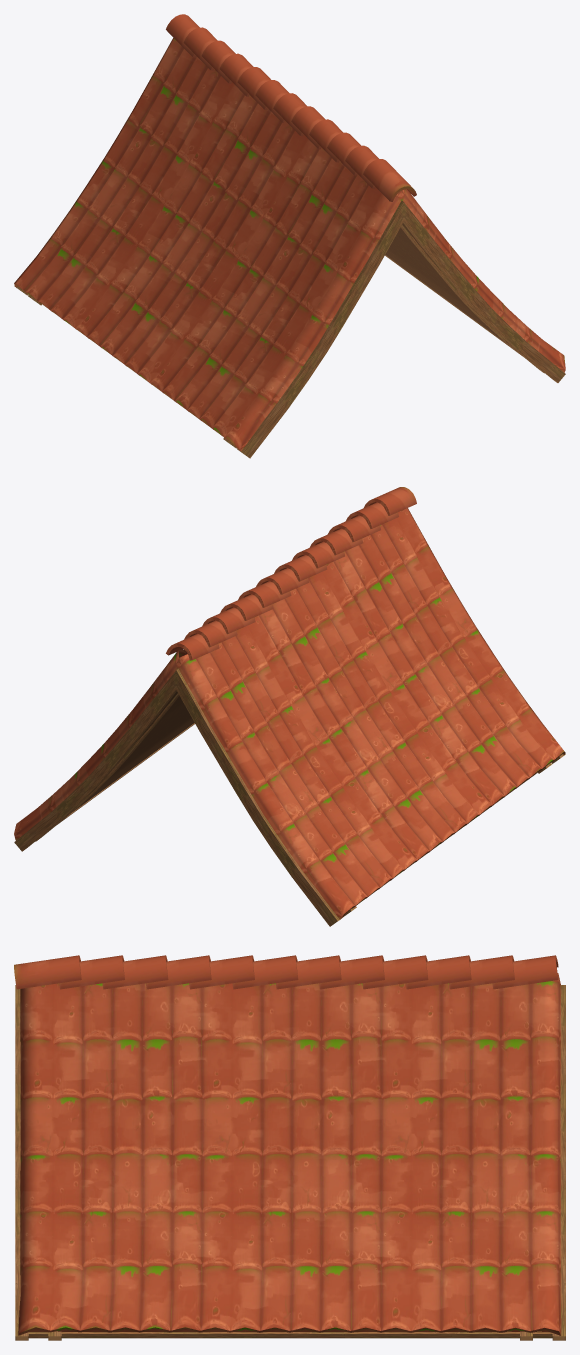
Rendered from Roof_RoundTiles_6x8.gltf.
The picture shows the model from 3 angles, top to bottom: view 1: azimuth 30°, elevation 25°; view 2: azimuth 150°, elevation 25°; view 3: azimuth 270°, elevation 25°; orthographic projection. The views are drawn at different scales.
Visible parts, largest first — view 1: Roof_RoundTiles_6x8; view 2: Roof_RoundTiles_6x8; view 3: Roof_RoundTiles_6x8.
Part boxes in pixels (left/top/right/bottom): Roof_RoundTiles_6x8: left=14, top=14, right=565, bottom=458; Roof_RoundTiles_6x8: left=14, top=487, right=565, bottom=926; Roof_RoundTiles_6x8: left=14, top=955, right=565, bottom=1340.
Size of the model in its own units: 8.25 by 5.67 by 9.68.
Materials: 2 (2 with a texture image).
